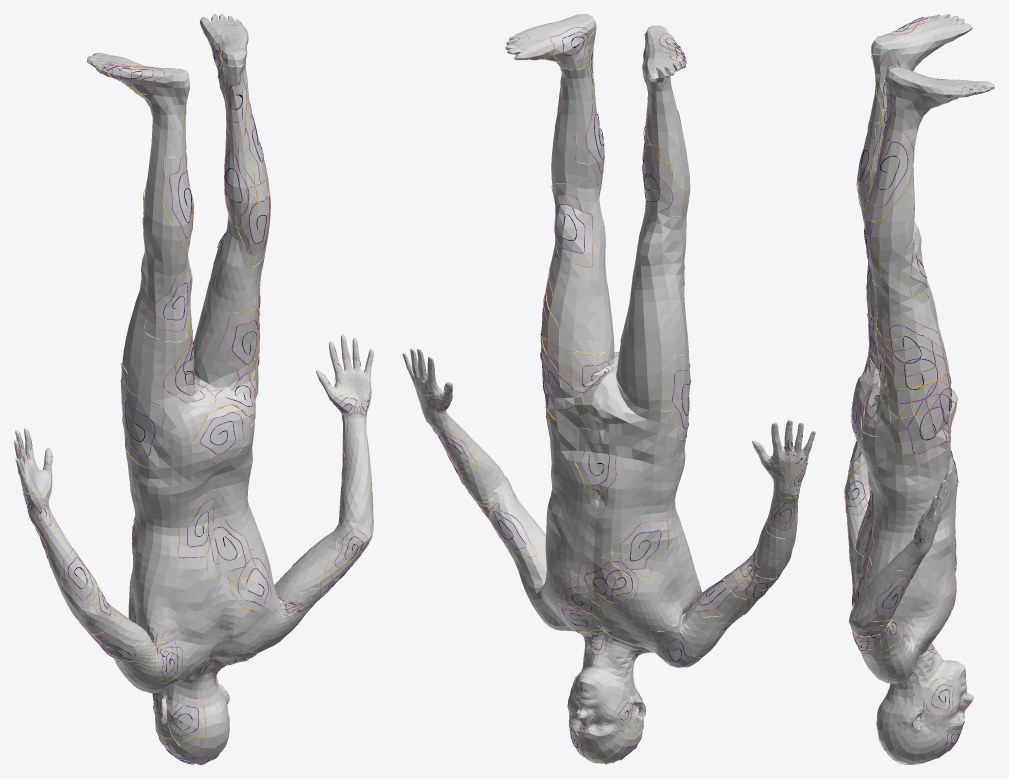
The picture shows the model from 3 angles, left to right: view 1: azimuth 30°, elevation 25°; view 2: azimuth 150°, elevation 25°; view 3: azimuth 270°, elevation 25°; orthographic projection. The views are drawn at different scales.
Parts seen in each view (by area): view 1: imagetostl_mesh0; view 2: imagetostl_mesh0; view 3: imagetostl_mesh0.
Part boxes in pixels (bbox=[...]): imagetostl_mesh0: bbox=[14, 14, 373, 764]; imagetostl_mesh0: bbox=[402, 14, 815, 764]; imagetostl_mesh0: bbox=[844, 14, 994, 764].
Size of the model in its own units: 1 by 1.79 by 0.3437.
